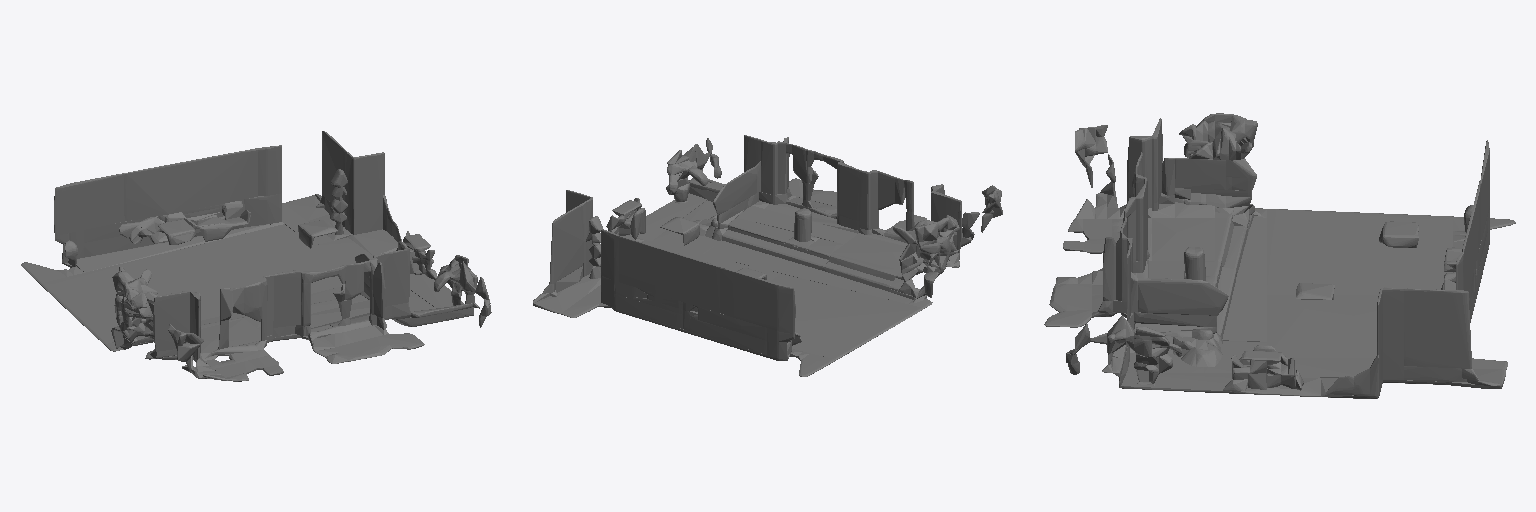
URDF robot description (multi_boxes):
<?xml version="1.0"?>
<robot name="multi_boxes">
  <!-- Note: Platform/ground boxes with large coordinates (-10 or 10) have been filtered out -->
  <link name="world"/>

  <!-- Planes -->
  <link name="planes_link">
    <visual>
      <origin xyz="0 0 0" rpy="0 0 0"/>
      <geometry>
        <mesh filename="multi_boxes.obj" scale="0.7415730337078652 0.7415730337078652 0.7415730337078652"/>
      </geometry>
      <material name="planes_material">
        <color rgba="0.5 0.5 0.5 0.5"/>
      </material>
    </visual>

    <collision name="planes">
      <origin xyz="0 0 0" rpy="0 0 0"/>
      <geometry>
        <mesh filename="multi_boxes.obj" scale="0.7415730337078652 0.7415730337078652 0.7415730337078652"/>
      </geometry>
    </collision>

    <inertial>
      <origin xyz="0 0 0" rpy="0 0 0"/>
      <mass value="33.33"/>
      <inertia ixx="33.33" ixy="0.0" ixz="0.0" iyy="33.33" iyz="0.0" izz="33.33"/>
    </inertial>
  </link>

  <!-- Fixed joint to world for Planes -->
  <joint name="world_to_planes" type="fixed">
    <parent link="world"/>
    <child link="planes_link"/>
    <origin xyz="0 0 0" rpy="0 0 0"/>
  </joint>

</robot>

--- Facts derived from the render (not from the file) ---
Views: 3 orthographic renders of the robot side by side, from view 1: azimuth 30°, elevation 25°; view 2: azimuth 150°, elevation 25°; view 3: azimuth 270°, elevation 25°.
Robot: multi_boxes — 2 links, 1 joints (1 fixed); root link world; default pose: all joints at 0.
Visible links, largest first — view 1: planes_link; view 2: planes_link; view 3: planes_link.
Link boxes in pixels (left/top/right/bottom): planes_link: left=21, top=131, right=491, bottom=381; planes_link: left=533, top=135, right=1002, bottom=376; planes_link: left=1044, top=113, right=1515, bottom=398.
Size in the robot's own frame: 6.67 by 6.81 by 1.54 metres.
1 mesh visuals loaded from 1 distinct referenced files (1 OBJ).